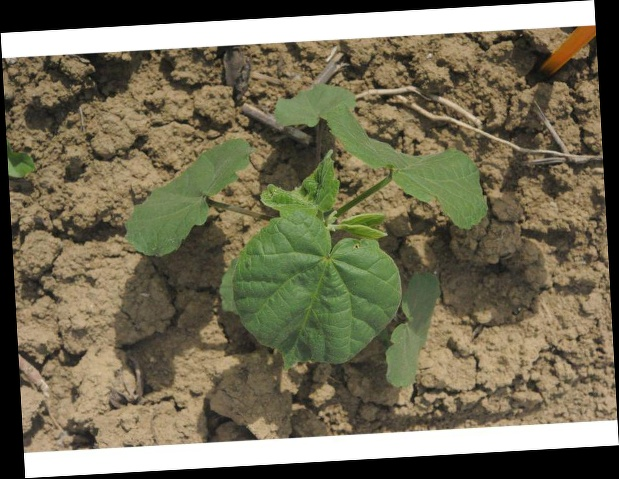velvet: (123, 83, 491, 392)
